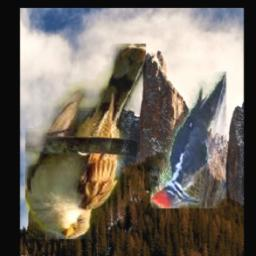Cuckoo: (25, 45, 146, 240)
Woodpecker: (151, 71, 227, 208)
